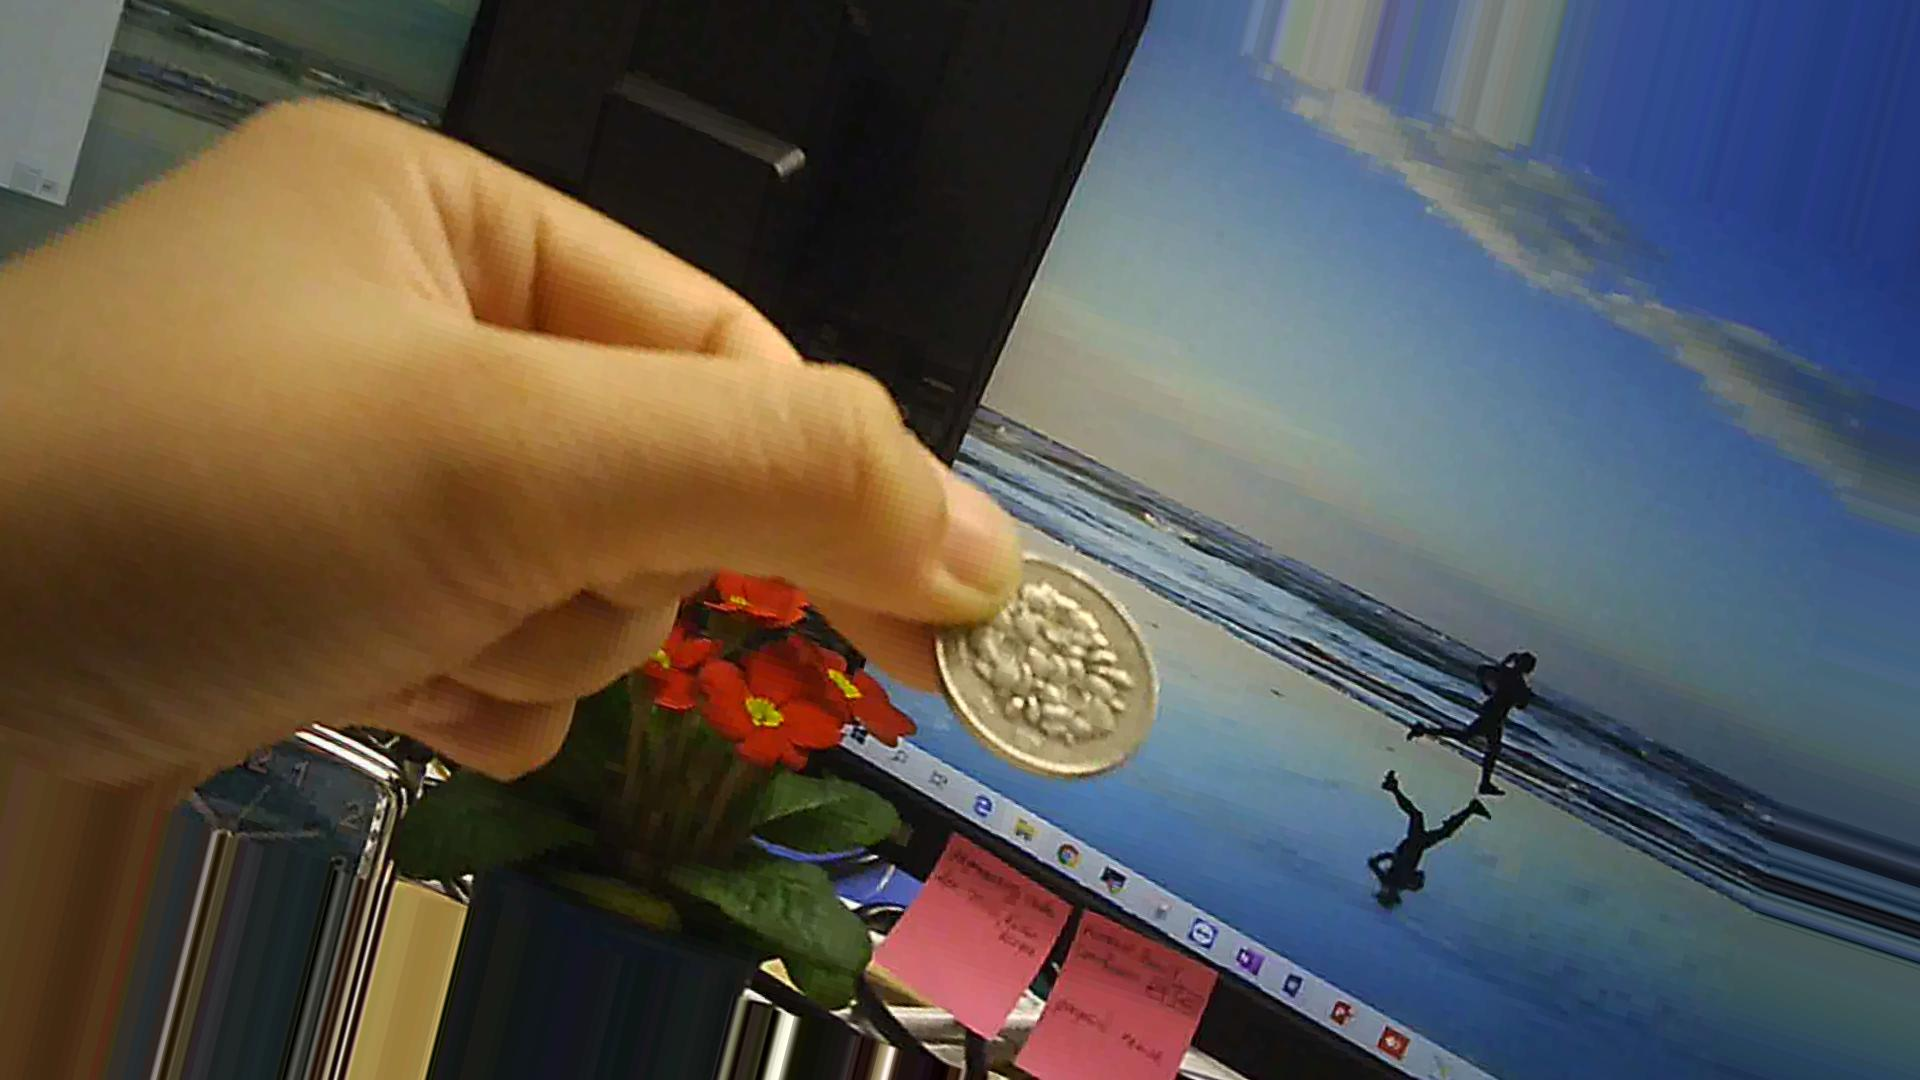100 Yen: (909, 529, 1162, 796)
